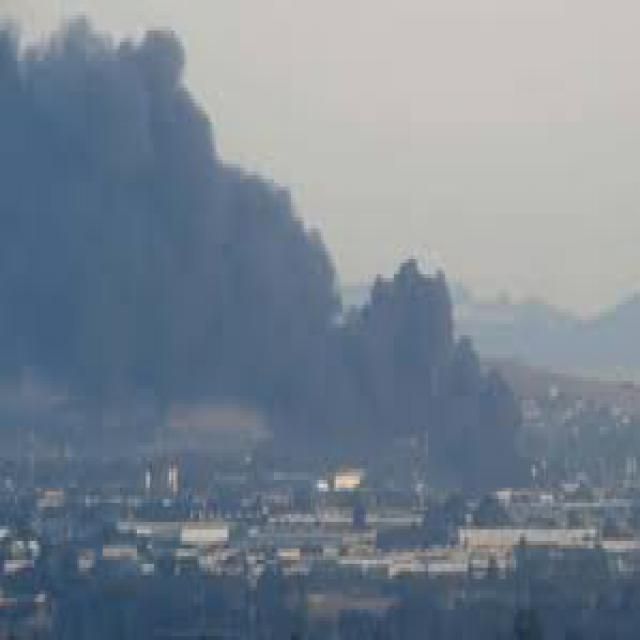smoke: (2, 4, 516, 518)
